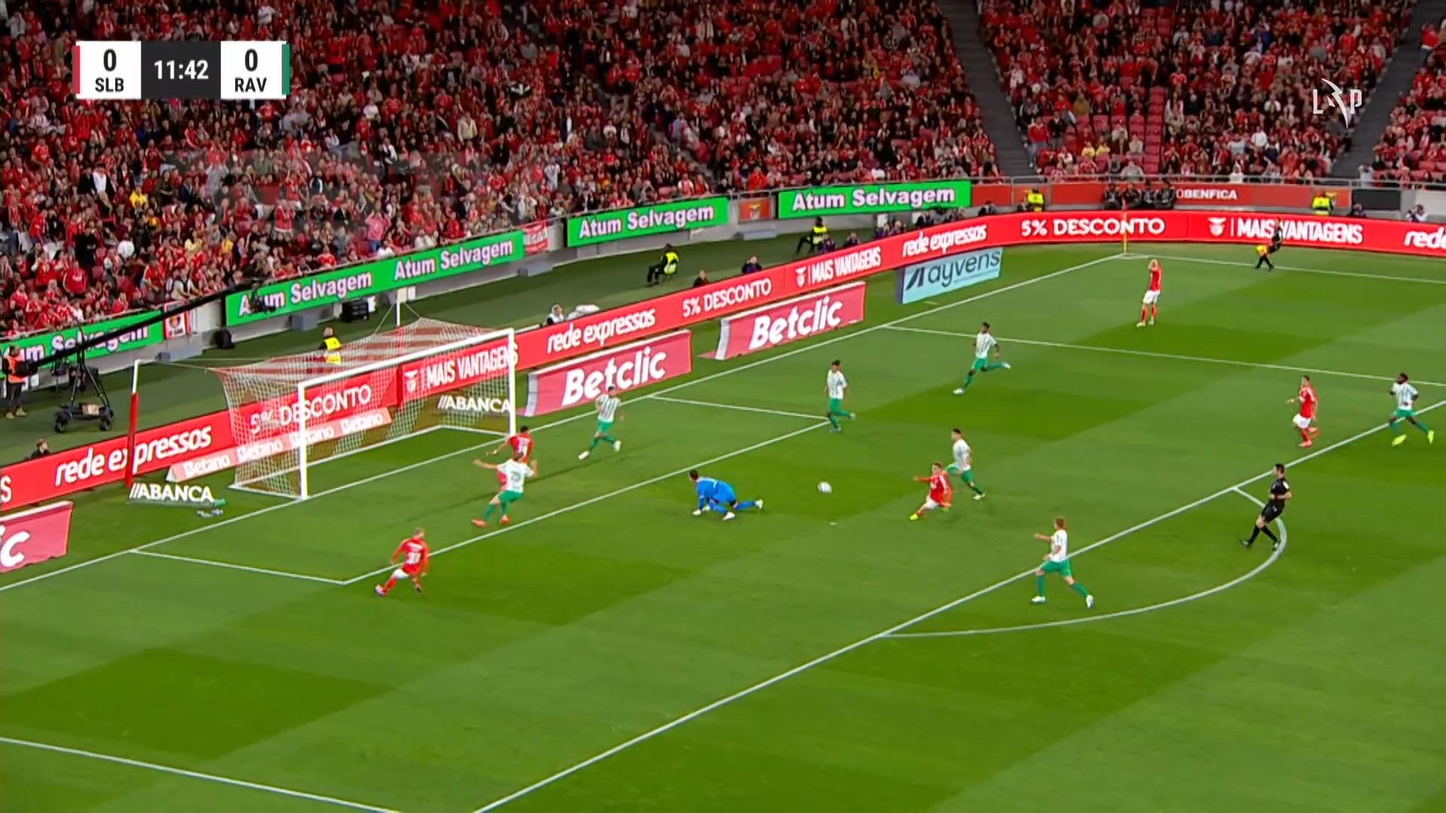ball: (817, 481, 832, 494)
goalkeeper: (687, 467, 764, 520)
player: (1030, 516, 1094, 609), (470, 449, 535, 527), (952, 320, 1011, 394), (373, 525, 430, 597), (577, 383, 624, 460), (1387, 372, 1435, 446), (945, 427, 987, 500), (908, 461, 953, 521), (486, 424, 536, 477), (1286, 374, 1319, 447), (824, 358, 856, 433), (2, 344, 30, 418), (1135, 257, 1162, 327)
referee: (1239, 462, 1292, 551), (1252, 222, 1283, 272)
